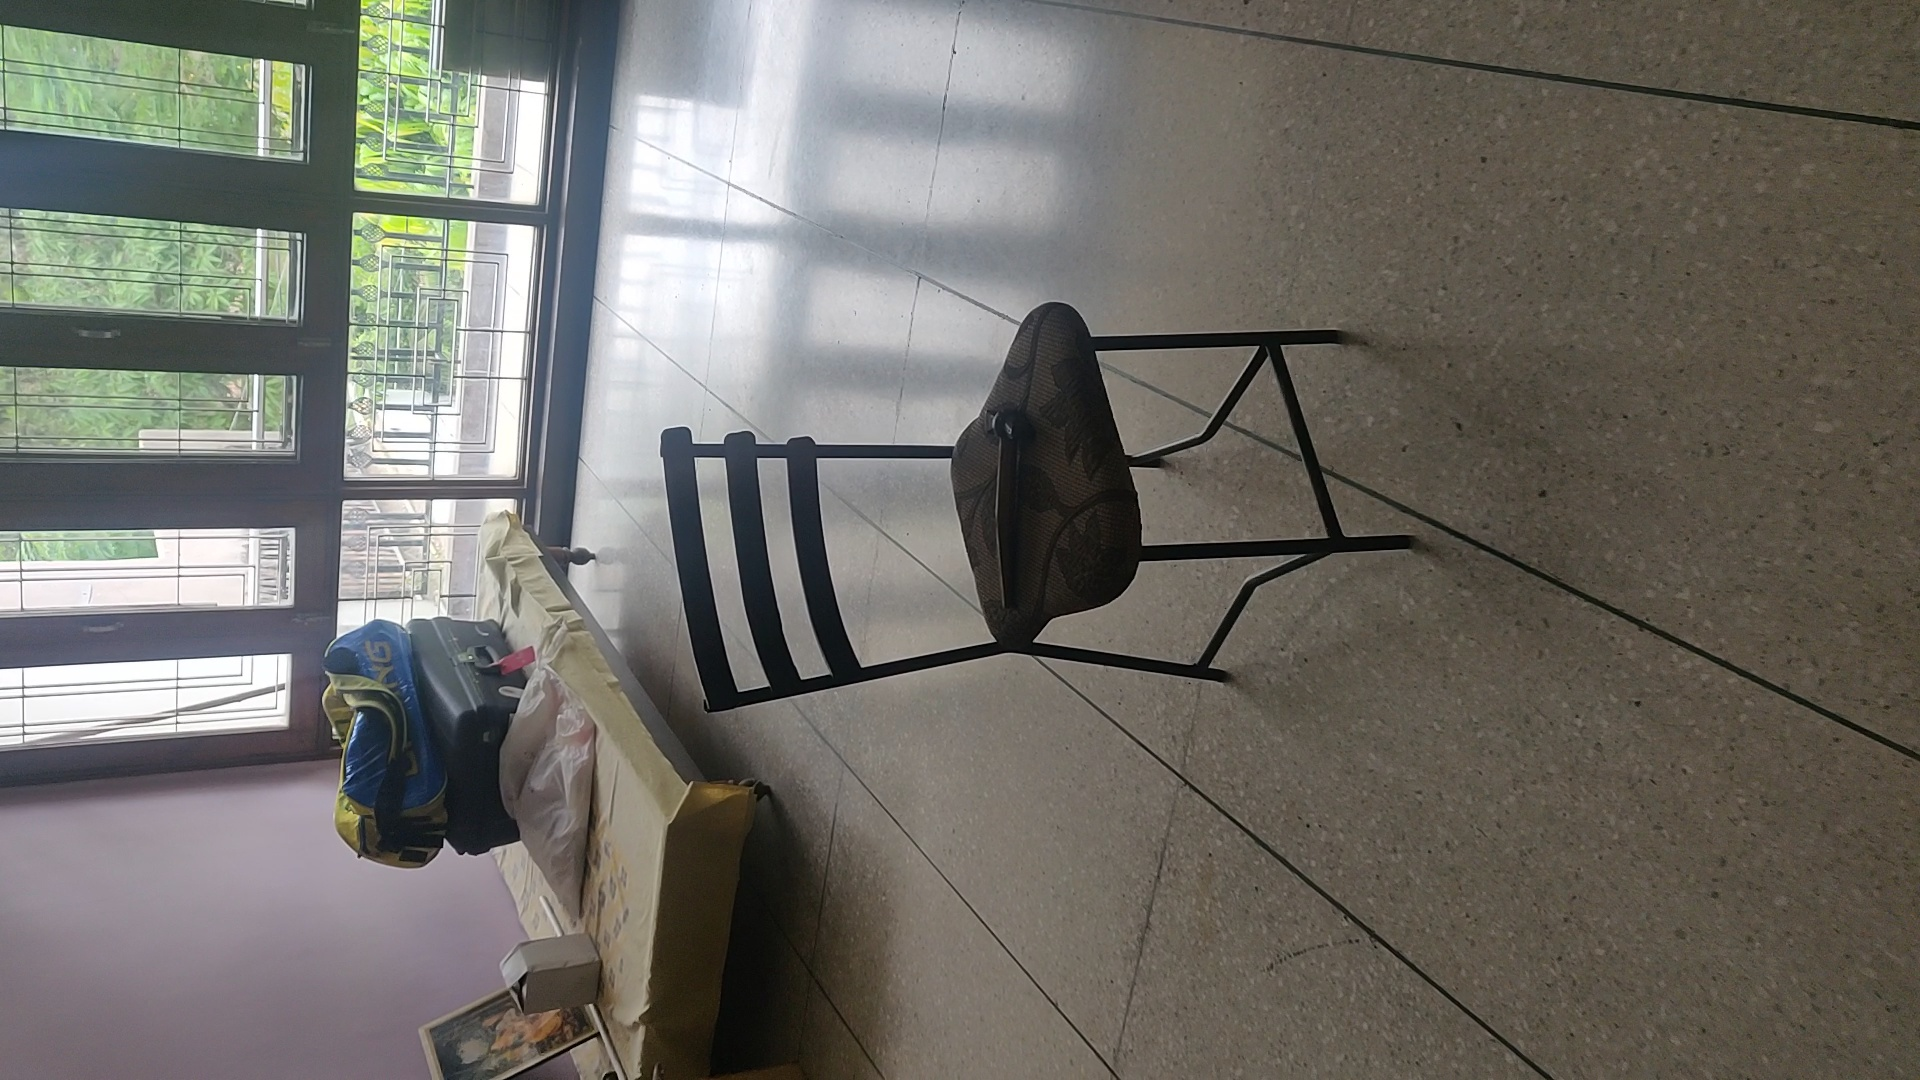hammer: (980, 404, 1047, 608)
